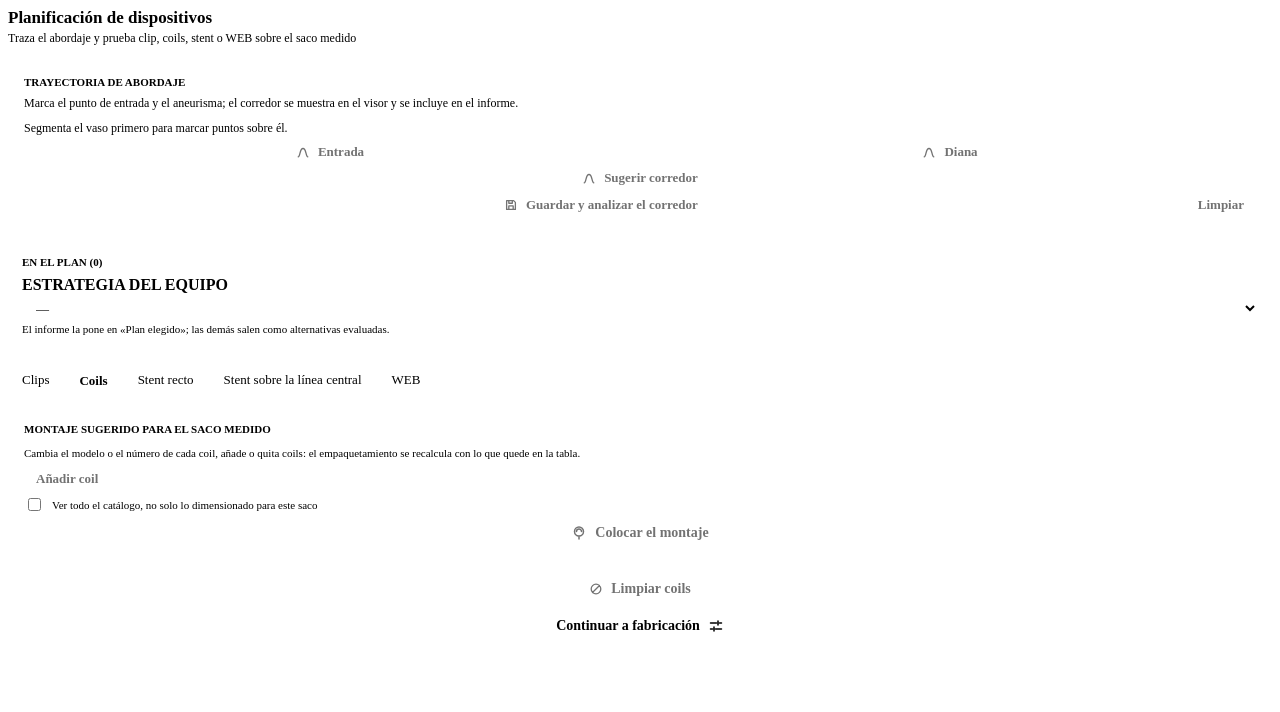
una sola vía de coils (decisión nº 24) › sin montaje posible se añaden coils del catálogo
Click the button "Coils": {"x": 94, "y": 380} left=66, top=364, right=122, bottom=398
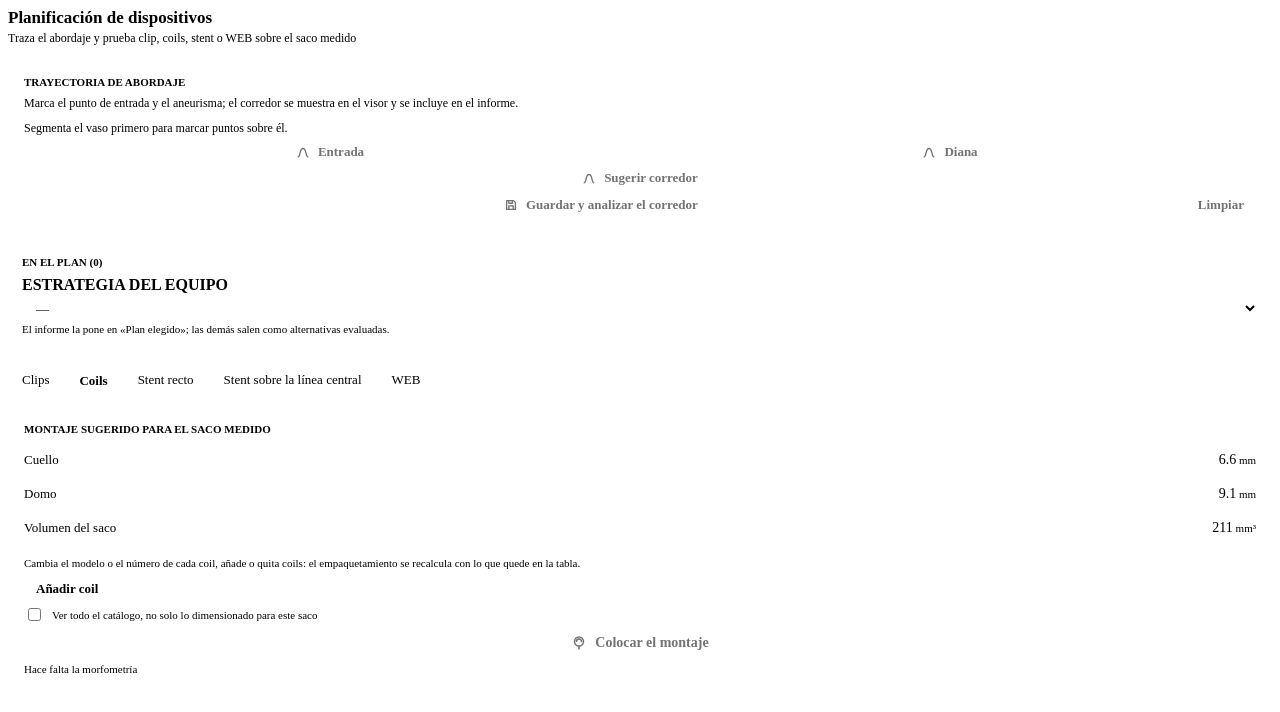
Click the button "Añadir coil": {"x": 67, "y": 589} left=24, top=581, right=110, bottom=597
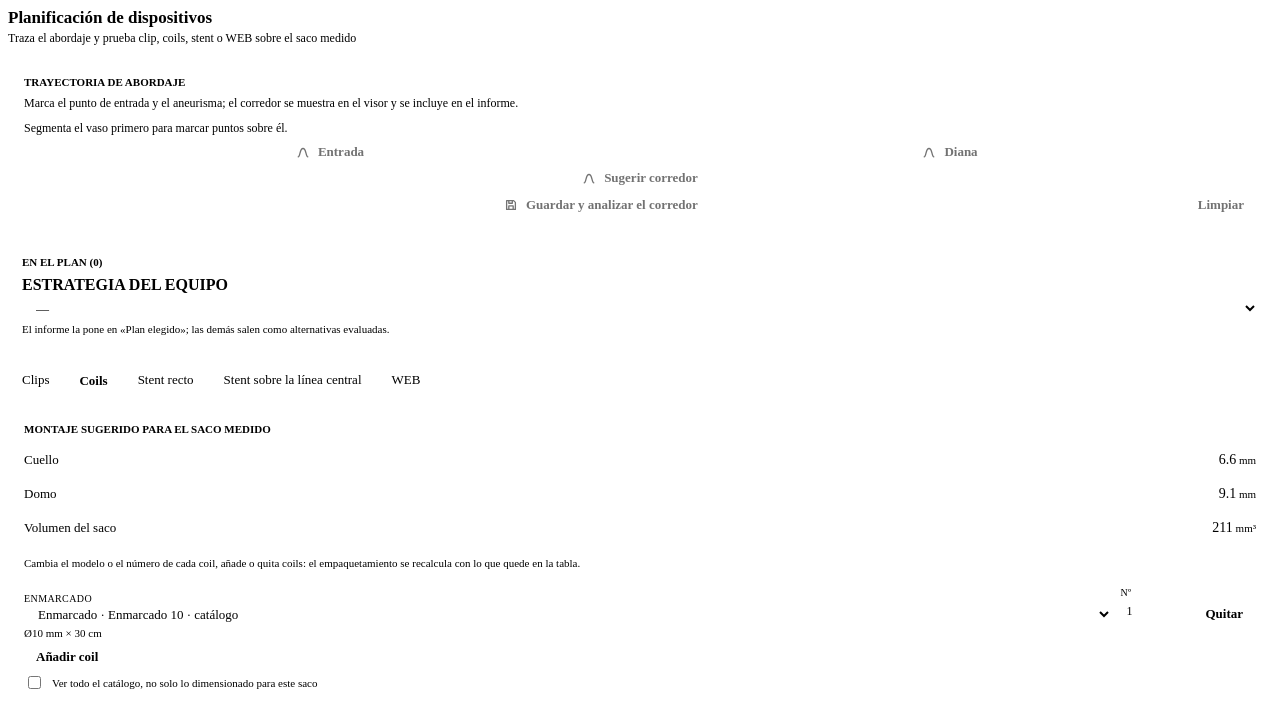
Check: the dropdown named "Modelo (fila 1)" shows "Enmarcado · Enmarcado 10 · catálogo", box left=24, top=606, right=1112, bottom=623
